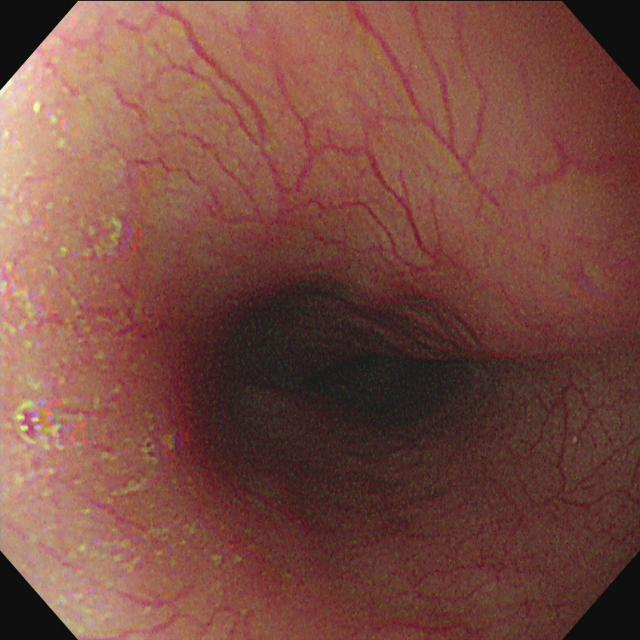E: (256, 289, 435, 449)
U: (16, 398, 63, 449)
